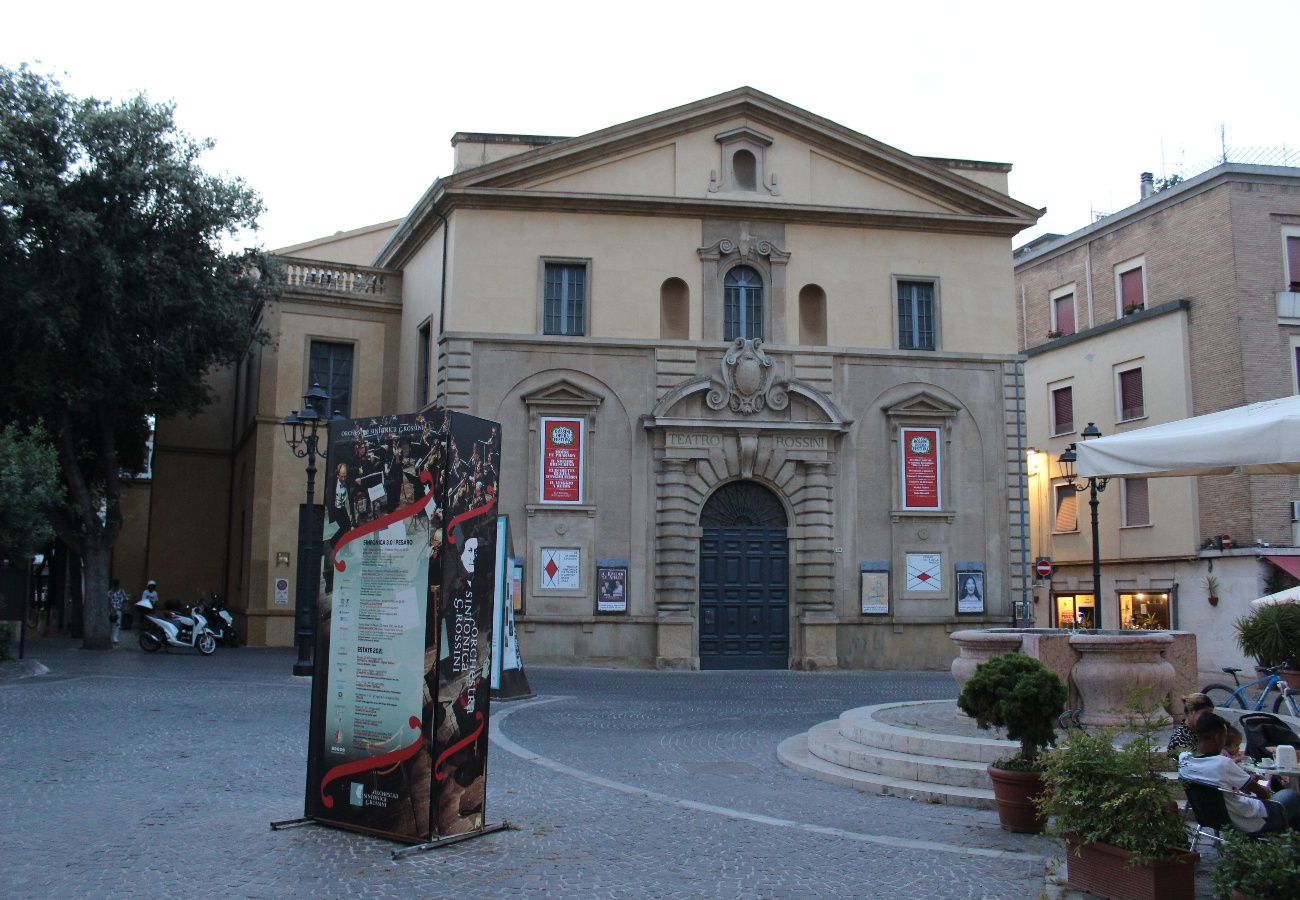Teatro Rossini: (441, 83, 1049, 673)
